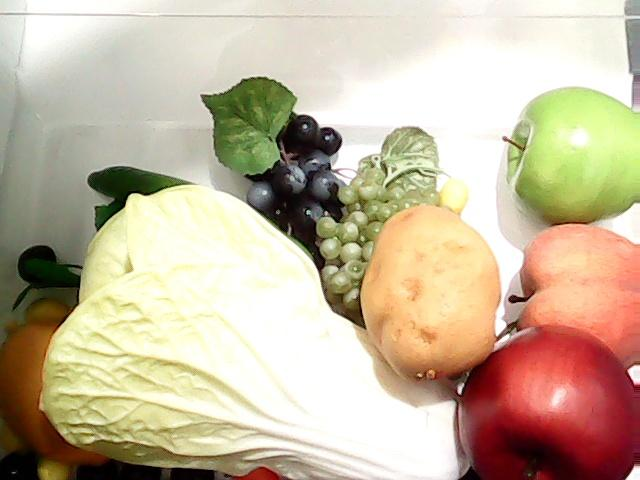apple: (440, 322, 636, 478), (502, 76, 638, 228)
carrot: (224, 456, 288, 480)
grape: (317, 159, 443, 317), (246, 108, 346, 260)
lemon: (5, 322, 104, 474)
napa cabbage: (38, 182, 492, 470)
peach: (508, 222, 640, 378)
pepper: (79, 154, 309, 254)
potato: (360, 206, 500, 382)
